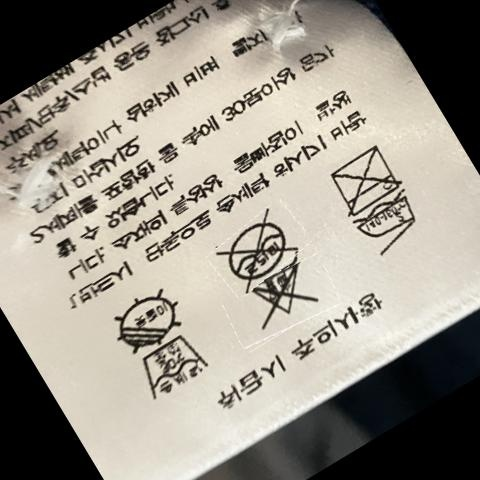DN_dry_clean: (218, 216, 288, 279)
DN_wash: (324, 151, 398, 205)
hand_wash: (137, 342, 208, 401)
iron_medium: (354, 200, 420, 250)
line_dry_in_shade: (108, 288, 181, 352)
non_chlorine_bleach: (243, 269, 309, 323)
